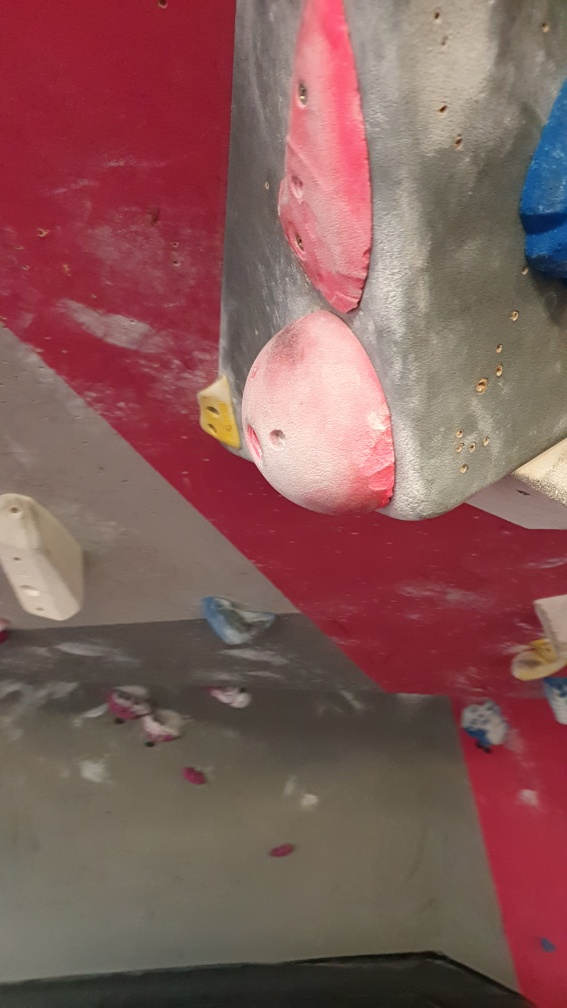Jug: (196, 589, 285, 657)
Pinch: (1, 492, 88, 626)
Sloper: (240, 307, 399, 519)
